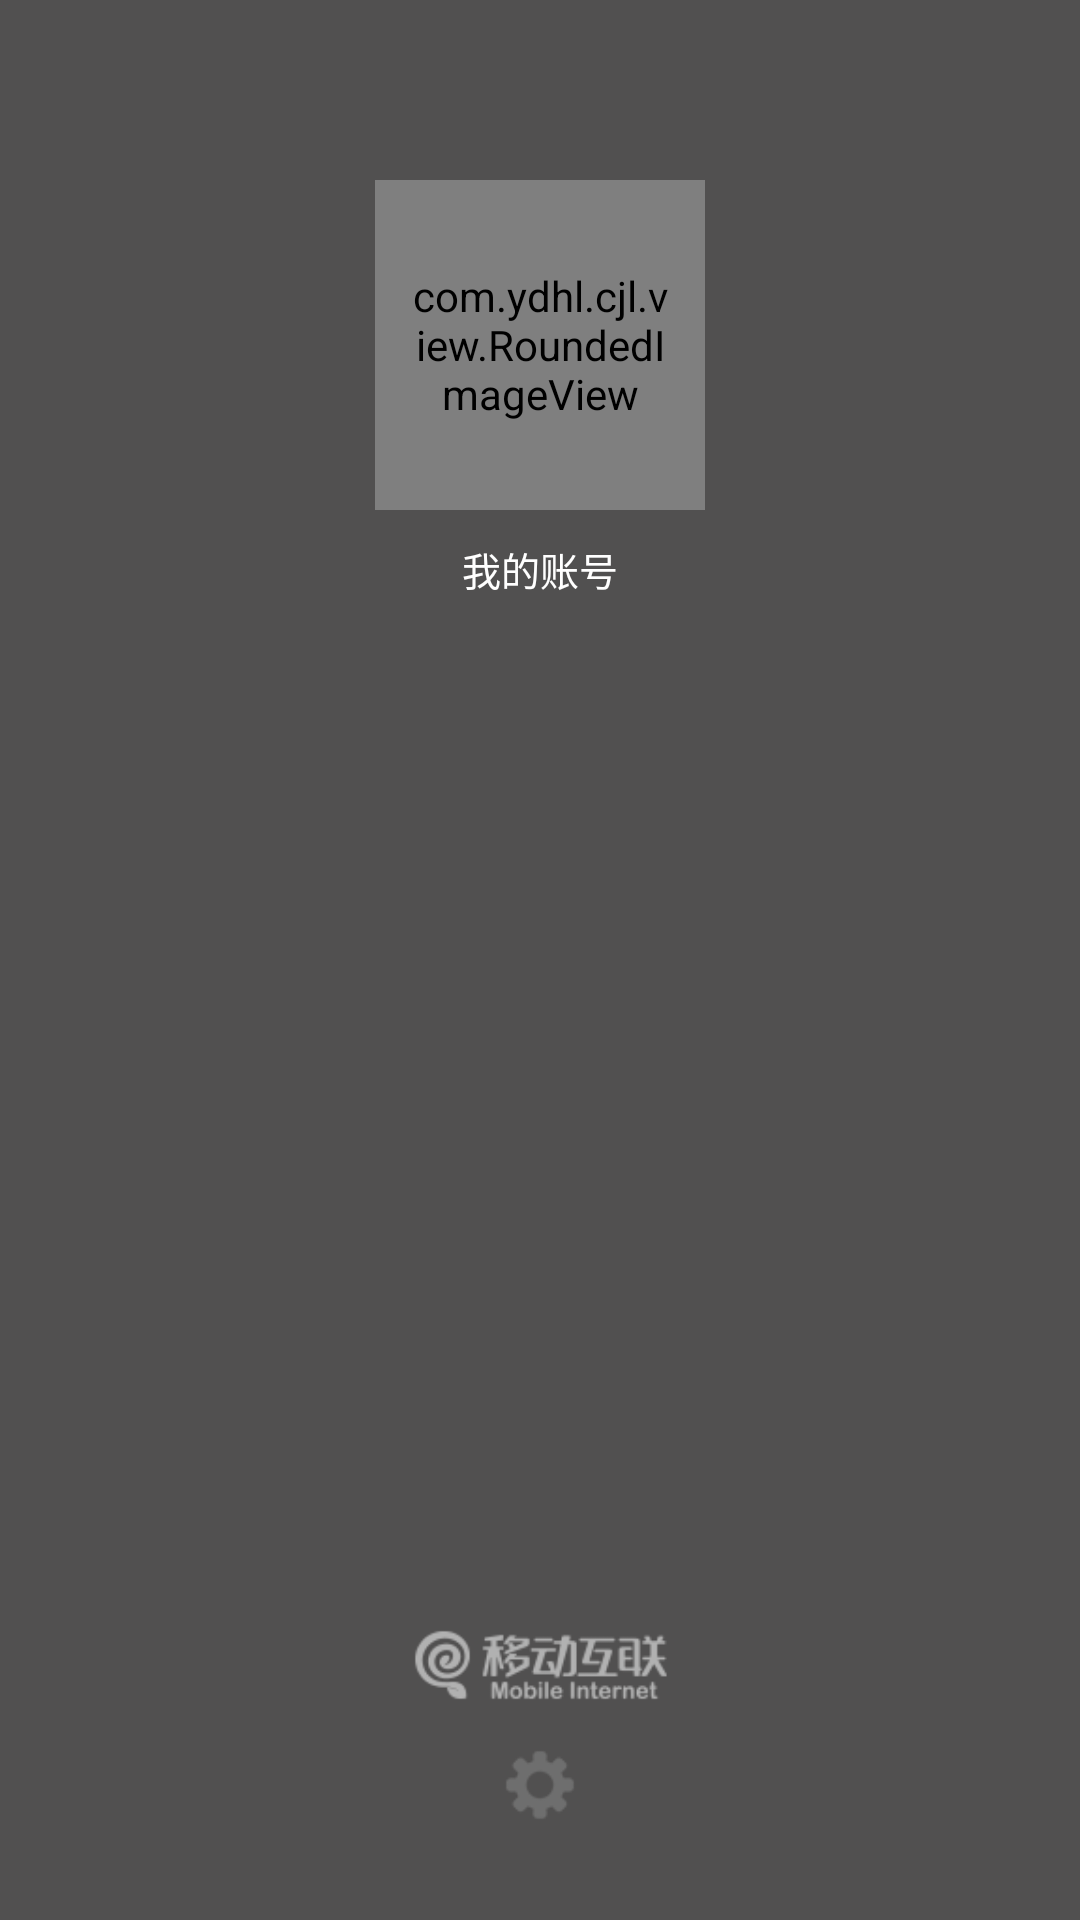

Where icons sit on this 1080x1920 app screen, as (x1, y1, x2, y2):
setting: (507, 1752, 573, 1818)
